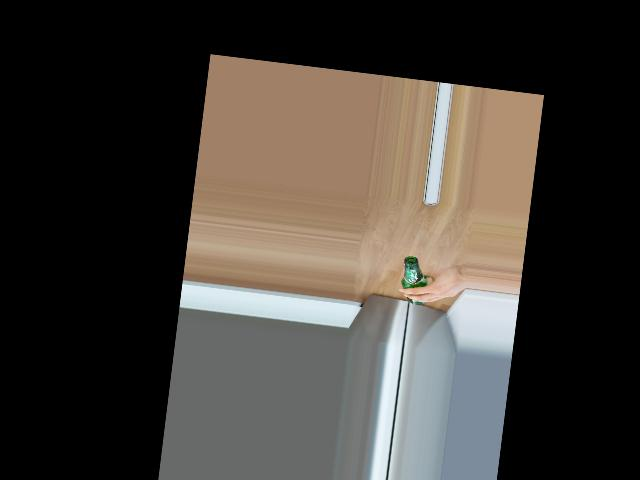beer: (399, 255, 431, 305)
